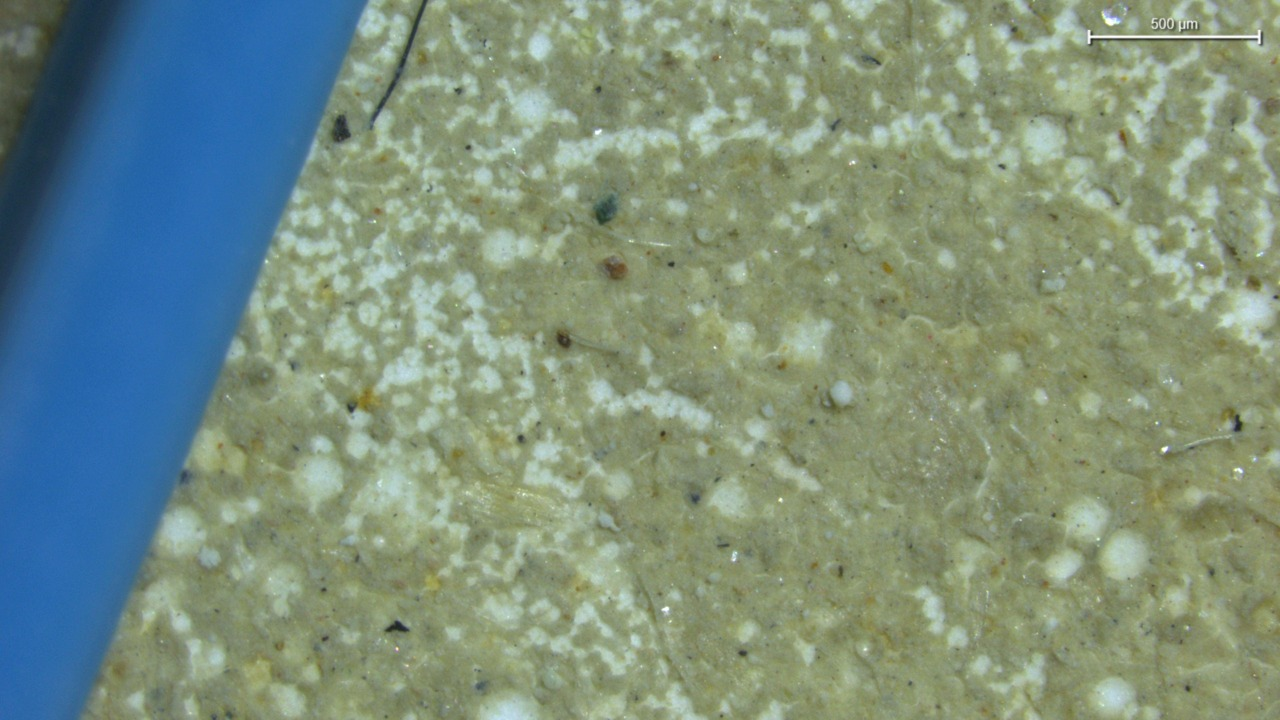microplastic_fragment: (829, 380, 855, 407)
